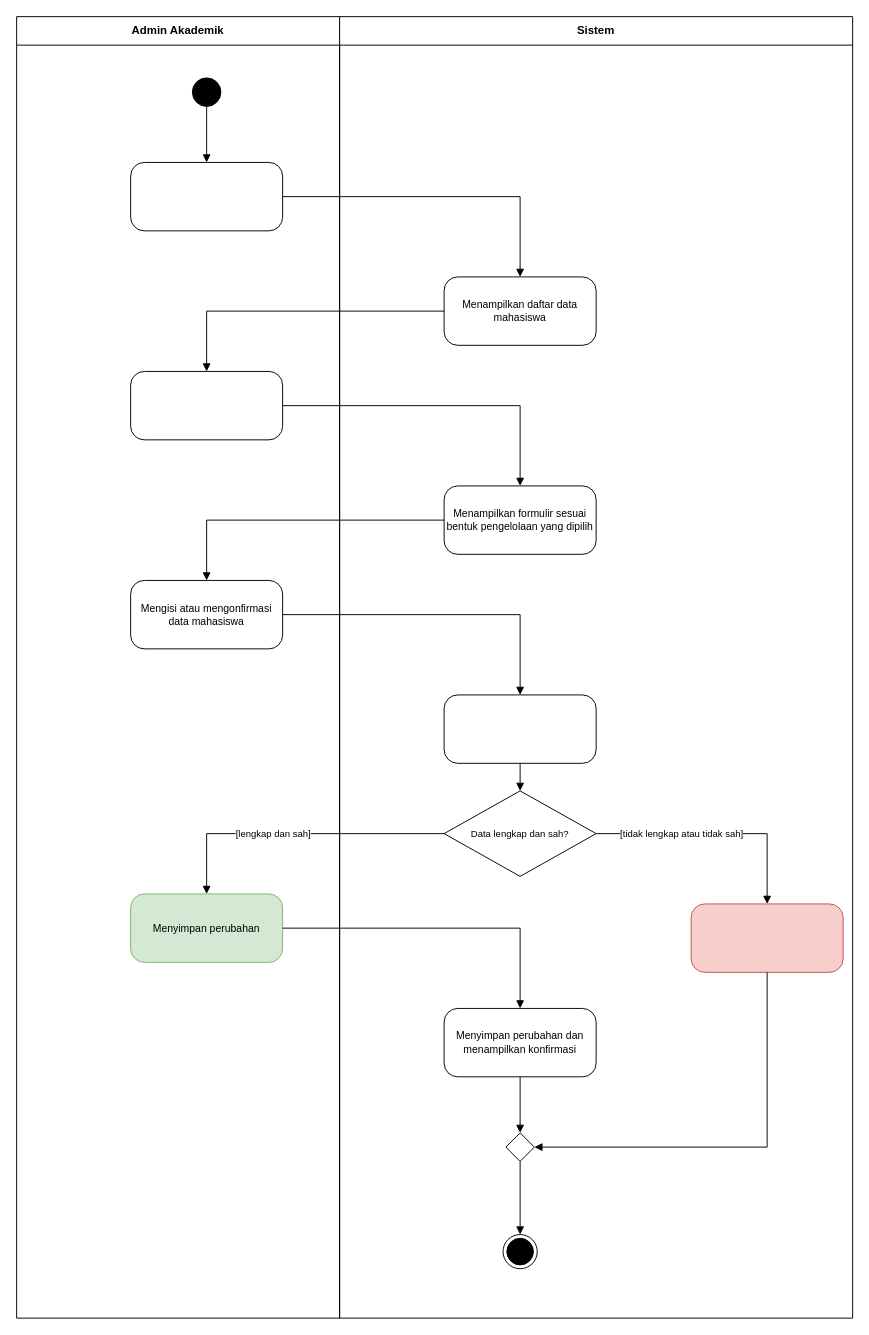
Image size: 869x1335. Some labels were removed from this diagram. Each missing label, with the box of its shape:
Membuka fungsi Kelola Data Mahasiswa: (130, 162, 283, 231)
Memeriksa kelengkapan dan keabsahan data: (443, 694, 596, 763)
Memilih bentuk pengelolaan, yaitu tambah, ubah, atau hapus: (130, 370, 283, 440)
Menolak penyimpanan dan menampilkan pesan kesalahan data: (690, 903, 843, 972)
